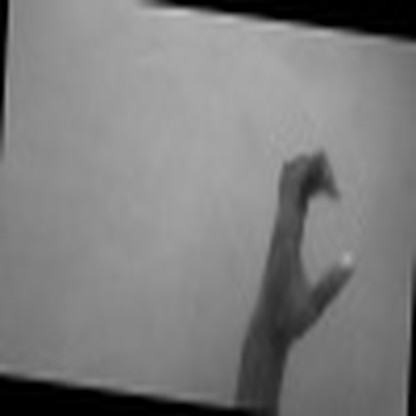c: (259, 144, 359, 334)
